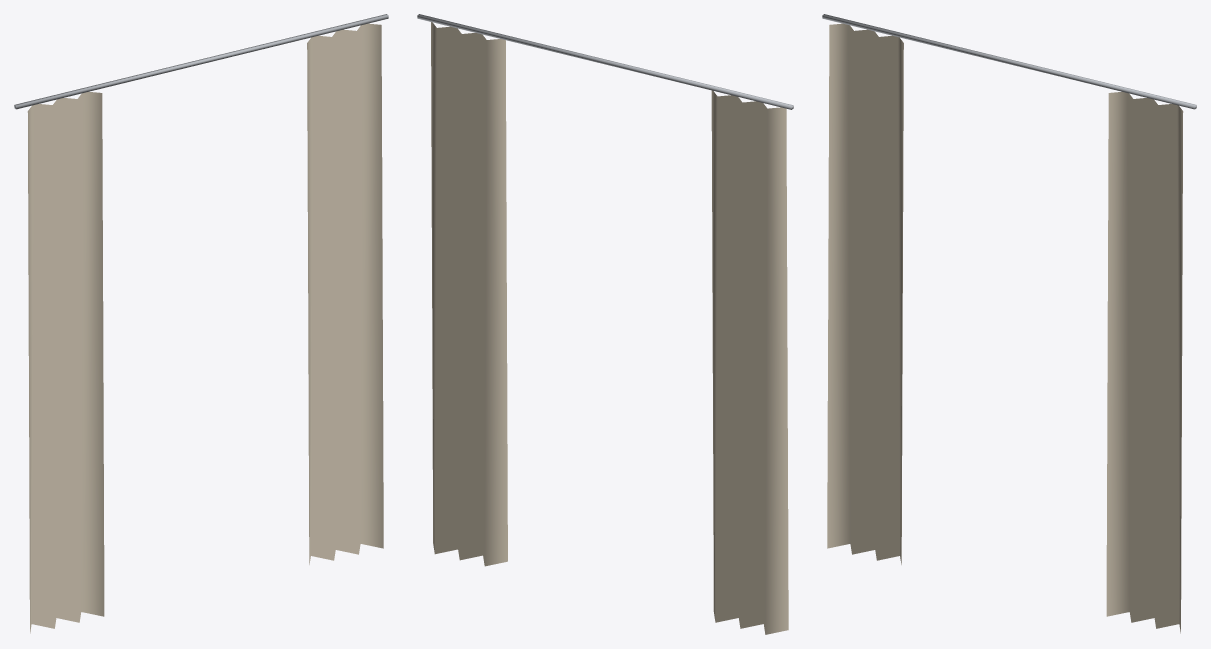
Rendered from city_curtain_linen.glb.
3 views of the same model, side by side, from view 1: azimuth 30°, elevation 25°; view 2: azimuth 150°, elevation 25°; view 3: azimuth 330°, elevation 25° (orthographic).
Visible parts, largest first — view 1: CityCurtainLinen_PanelL, CityCurtainLinen_PanelR, CityCurtainLinen_Rod; view 2: CityCurtainLinen_PanelL, CityCurtainLinen_PanelR, CityCurtainLinen_Rod; view 3: CityCurtainLinen_PanelL, CityCurtainLinen_PanelR, CityCurtainLinen_Rod.
Part boxes in pixels (x1,y1,x2,y2): CityCurtainLinen_PanelL: [27, 92, 104, 633]; CityCurtainLinen_PanelR: [307, 23, 383, 564]; CityCurtainLinen_Rod: [14, 14, 388, 109]; CityCurtainLinen_PanelL: [711, 90, 788, 634]; CityCurtainLinen_PanelR: [431, 22, 507, 566]; CityCurtainLinen_Rod: [417, 14, 793, 109]; CityCurtainLinen_PanelL: [827, 23, 903, 564]; CityCurtainLinen_PanelR: [1106, 92, 1183, 633]; CityCurtainLinen_Rod: [822, 14, 1196, 109].
Size of the model in its own units: 2 by 2.71 by 0.1.
